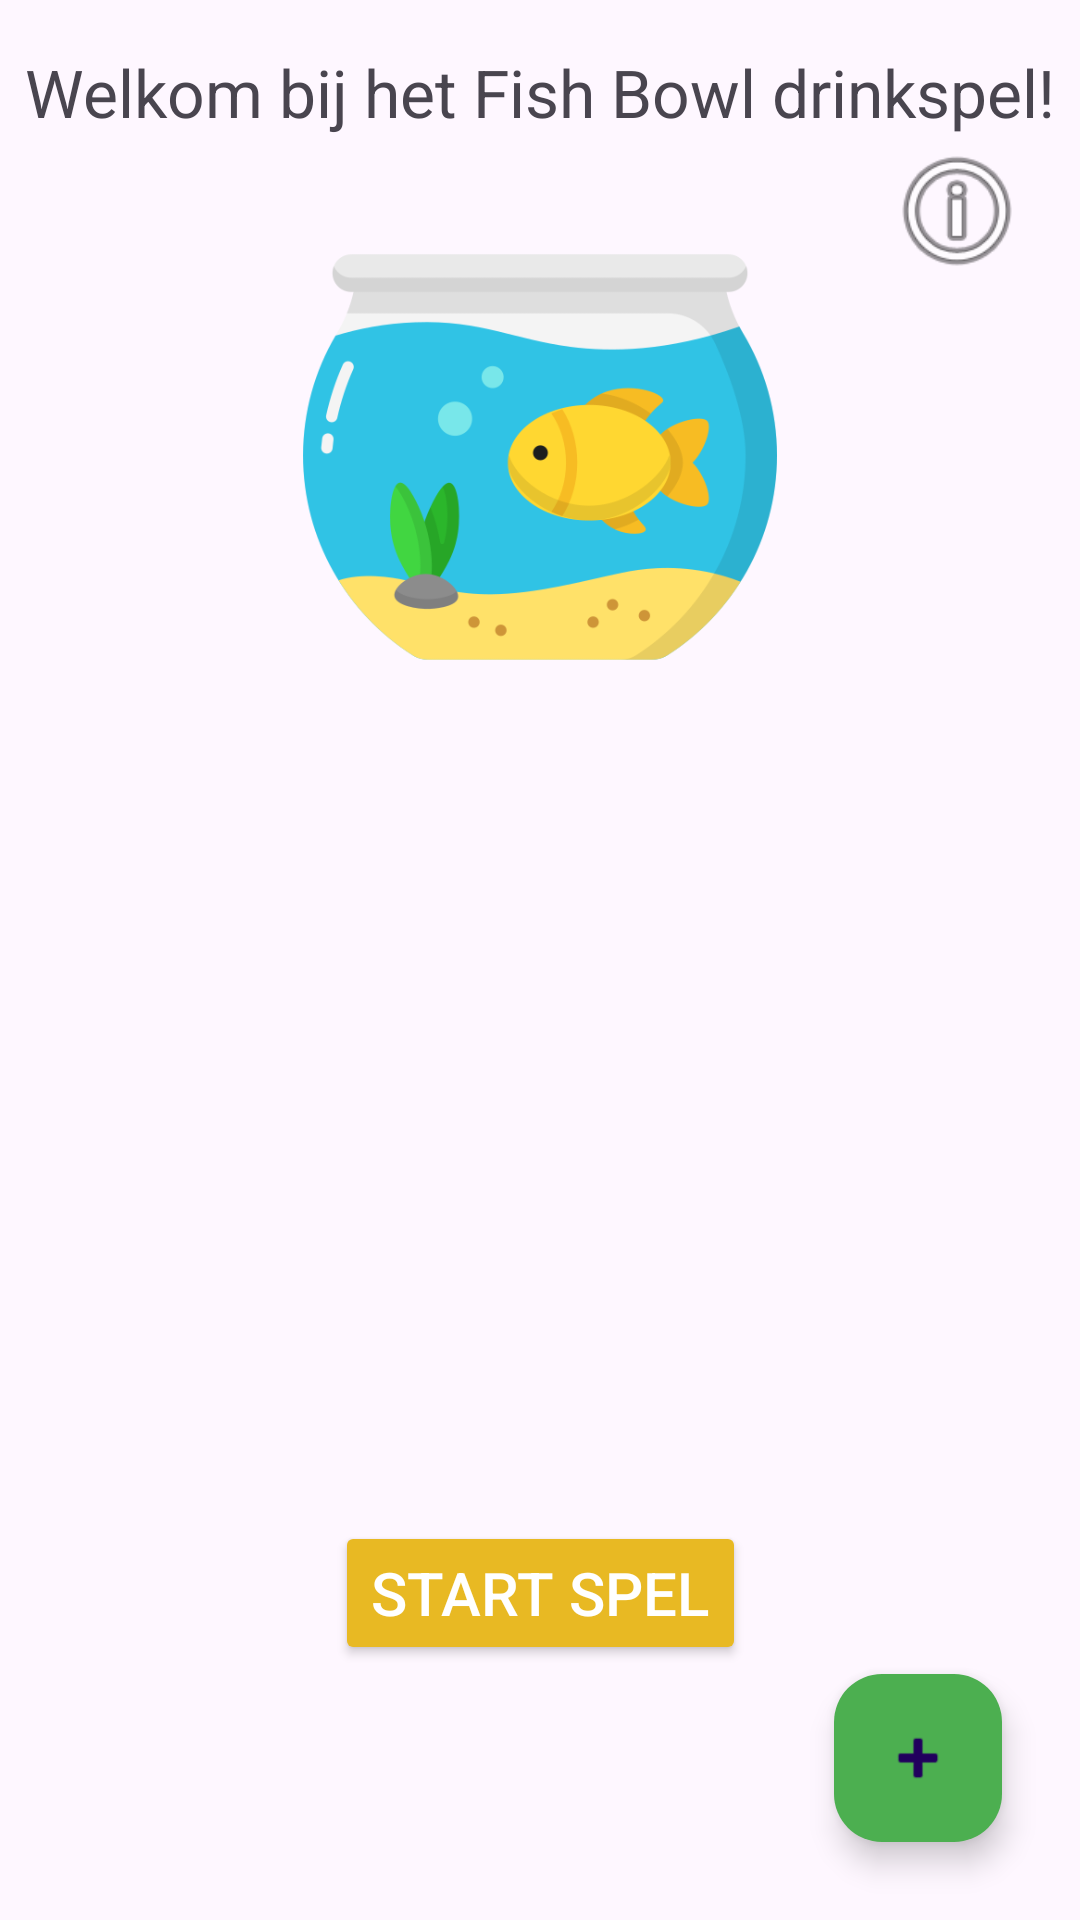

Icons on this 1080 x 1920 Android screen, each with the point to tap as [x,y]:
add: [918,1758]
info details: [957,211]
